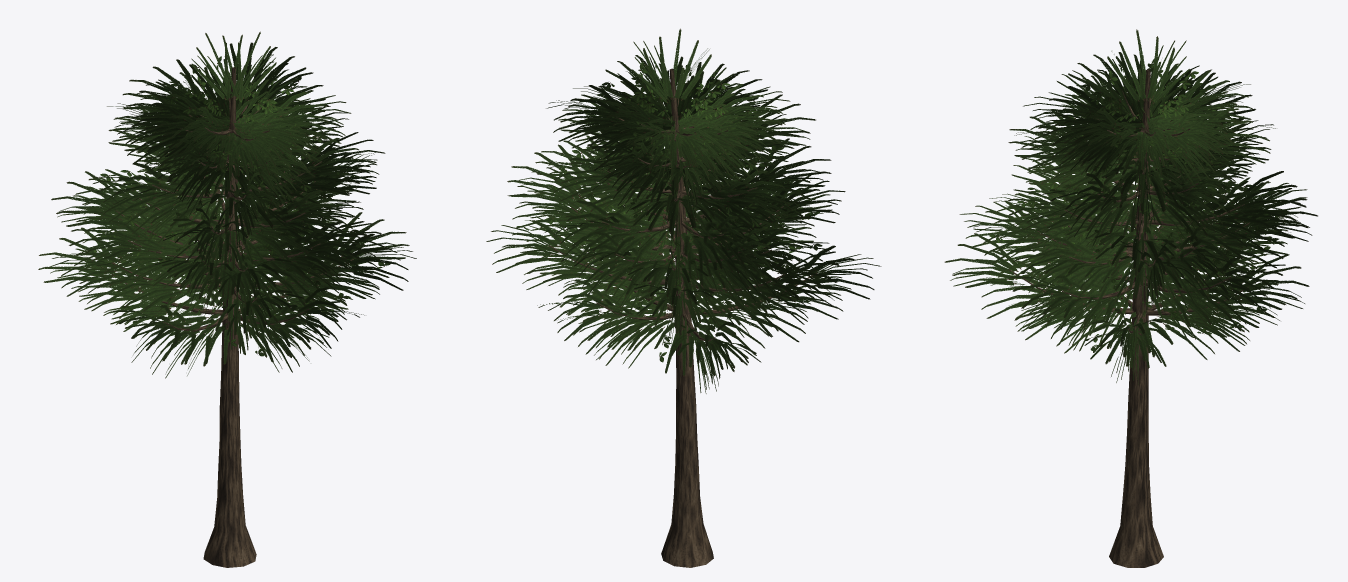
File: ENV_Tree_01.fbx
The picture shows the model from 3 angles, left to right: view 1: azimuth 30°, elevation 25°; view 2: azimuth 150°, elevation 25°; view 3: azimuth 270°, elevation 25°; orthographic projection.
Parts seen in each view (by area): view 1: ENV_Tree_01_LOD0; view 2: ENV_Tree_01_LOD0; view 3: ENV_Tree_01_LOD0.
Part boxes in pixels (<box>): ENV_Tree_01_LOD0: <box>38,31,416,567</box>; ENV_Tree_01_LOD0: <box>486,28,881,567</box>; ENV_Tree_01_LOD0: <box>944,29,1317,567</box>.
Size of what is drawn, in the model's own units: 14.5 by 19.97 by 13.97.
